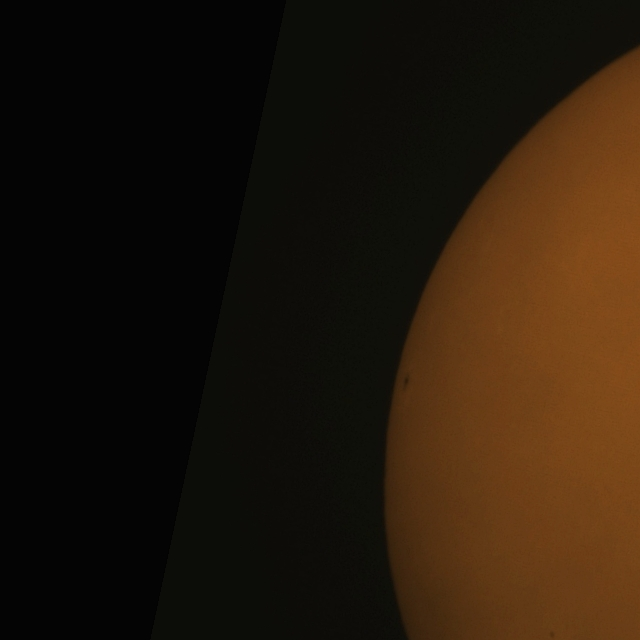sunspot: (548, 630, 556, 640)
